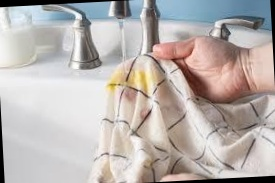mustard: (137, 68, 155, 92), (113, 70, 131, 88)
